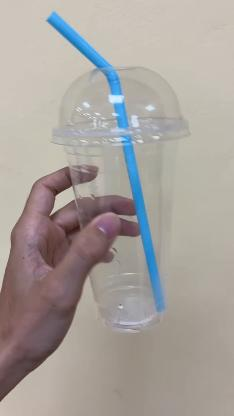Plastic Cup: (44, 66, 194, 326)
